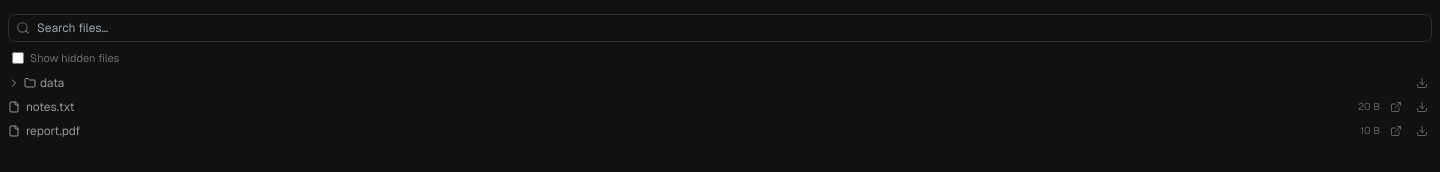
Test: SidebarWorkspaceTree search › shows a no-match empty state for a query with no hits
Check: the text "report.pdf" is shown, box [26, 122, 80, 138]
Step 1. Type "zzz-nope" into the search field named "search workspace" → (720, 28), box [8, 14, 1432, 42]
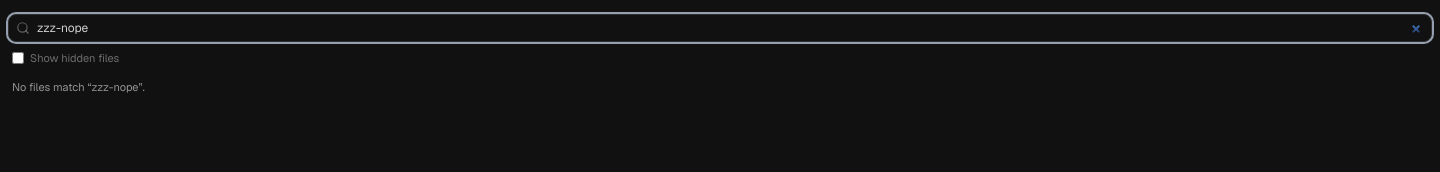
Check: the text "No files match “zzz-nope”." is shown, box [12, 80, 145, 94]
